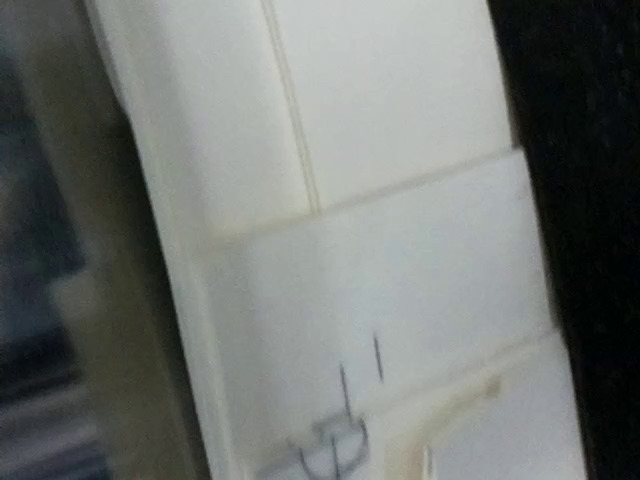misaligned: (258, 367, 380, 480)
